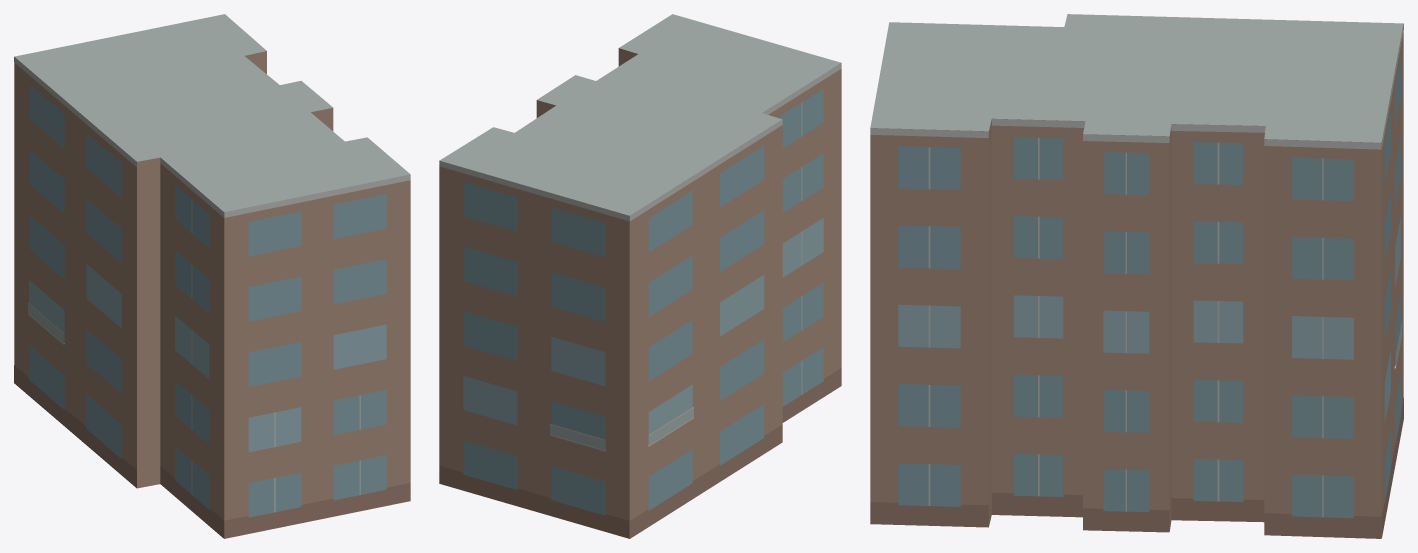
The model's file is survey-upis-32755091.glb.
3 renders of one model, left to right at view 1: azimuth 30°, elevation 25°; view 2: azimuth 150°, elevation 25°; view 3: azimuth 270°, elevation 25°, orthographic. The views are drawn at different scales.
Parts seen in each view (by area): view 1: survey-upis-32755091.tmp; view 2: survey-upis-32755091.tmp; view 3: survey-upis-32755091.tmp.
Part boxes in pixels (<box>): survey-upis-32755091.tmp: <box>14,14,410,538</box>; survey-upis-32755091.tmp: <box>439,14,841,538</box>; survey-upis-32755091.tmp: <box>870,14,1403,538</box>.
Bounding box in the file's own units: 9.77 × 14 × 17.09.
